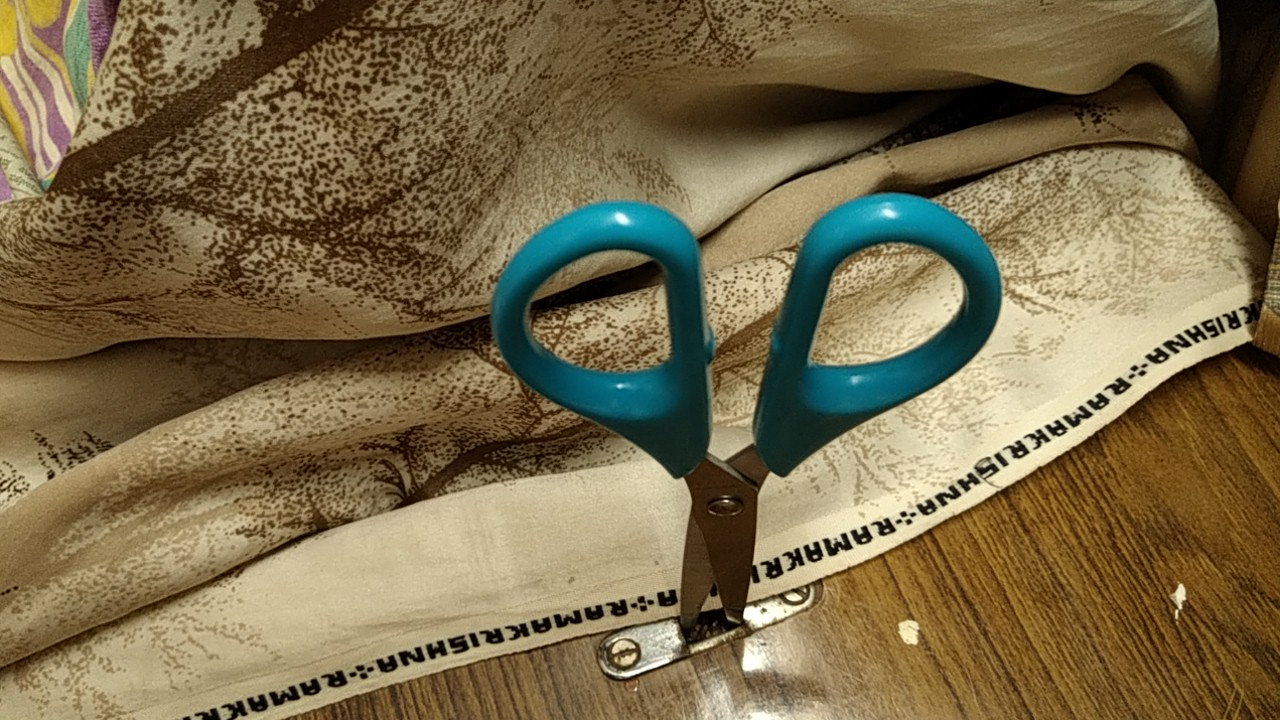scissor: (469, 183, 1017, 685)
